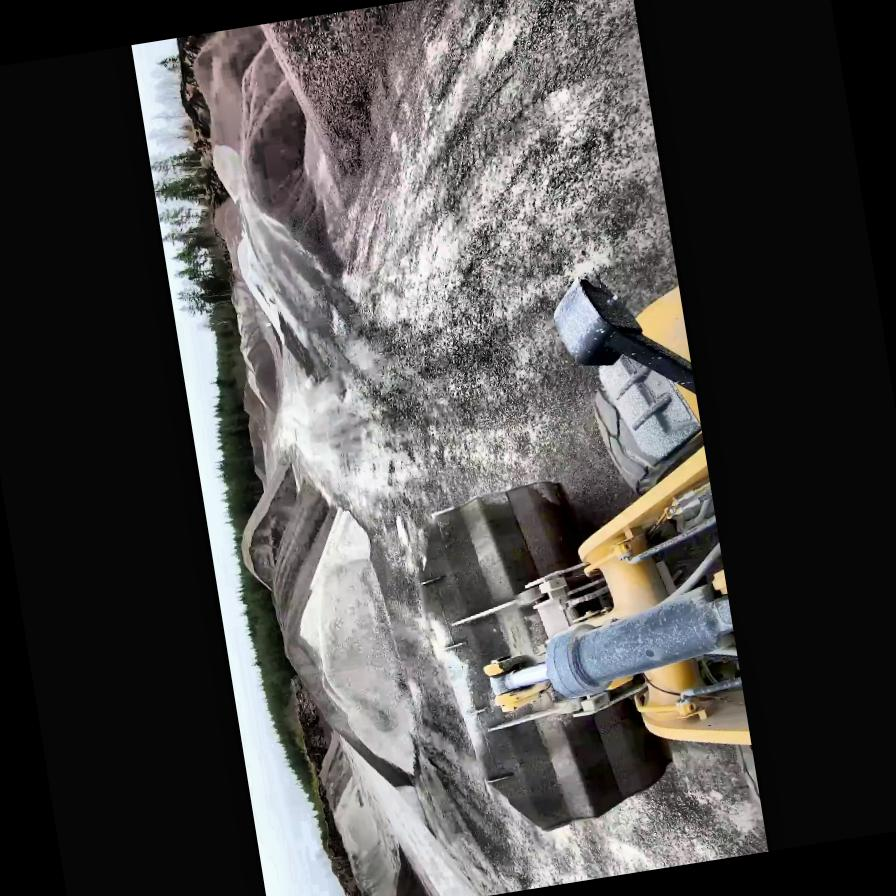anchor: (478, 649, 552, 716)
pile of gravel: (252, 472, 434, 853), (174, 18, 349, 324), (249, 4, 428, 265), (225, 458, 308, 591), (169, 29, 247, 148), (223, 265, 284, 415), (362, 833, 470, 896), (234, 373, 272, 471)
